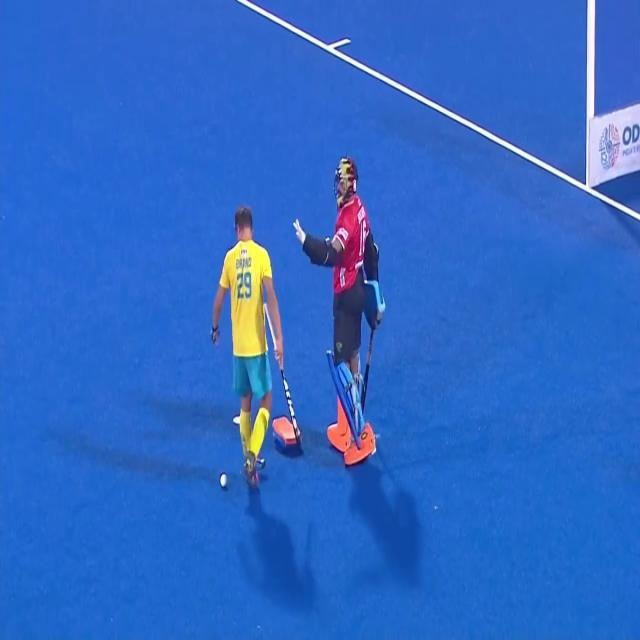ball: (218, 461, 233, 492)
